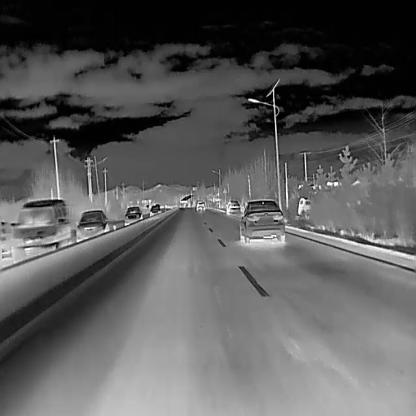car: (9, 199, 71, 264), (240, 197, 286, 245), (75, 209, 109, 242), (297, 196, 313, 218), (124, 206, 142, 225), (226, 199, 241, 215), (149, 203, 161, 217), (195, 200, 206, 211)
